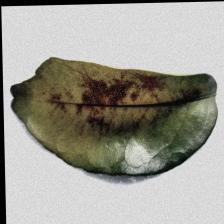black spot: (48, 62, 197, 138)
